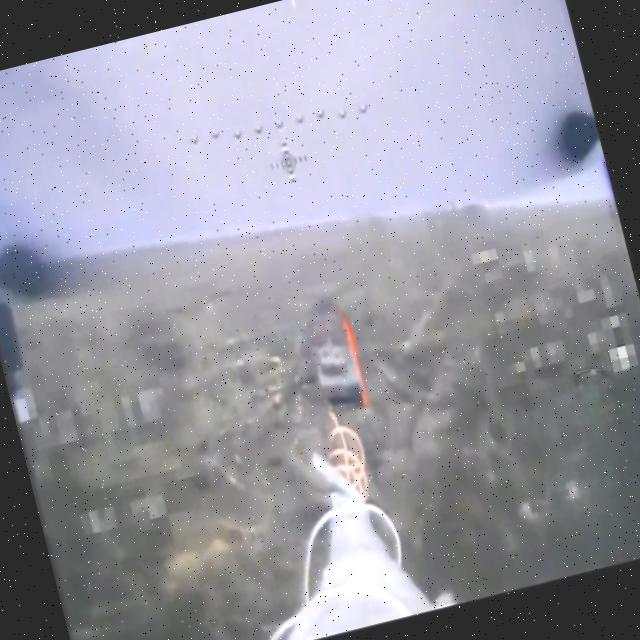MBT: (313, 333, 365, 408)
